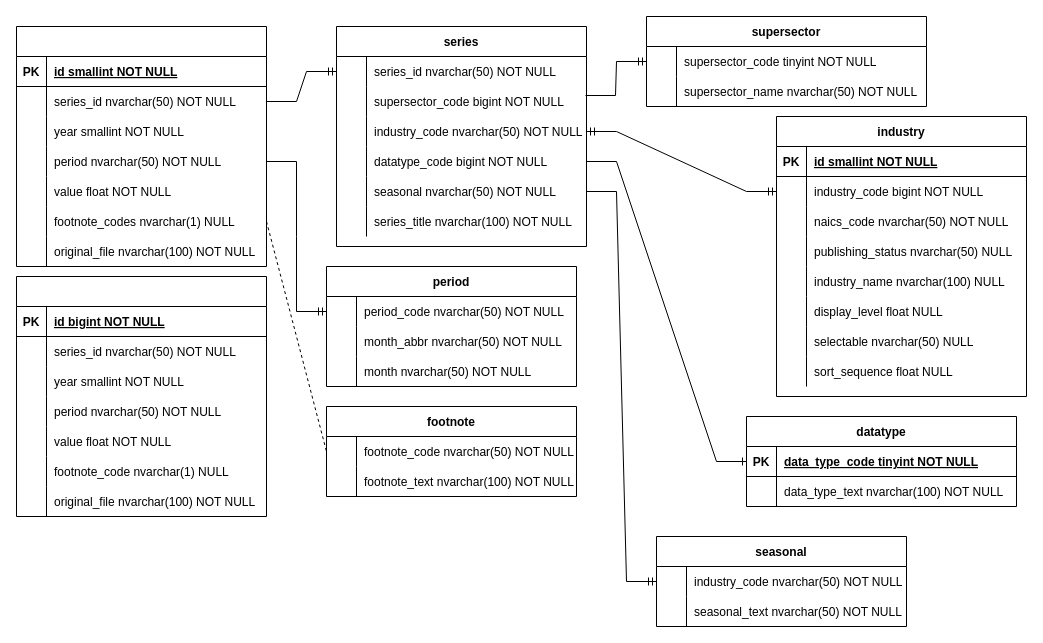
This 1043x643 diagram has some shape labels left out. The box of each missing label's shape, as (x1, y1, x2, y2) in pixels:
annual_2016: (16, 26, 266, 266)
january_2017: (16, 276, 266, 516)
